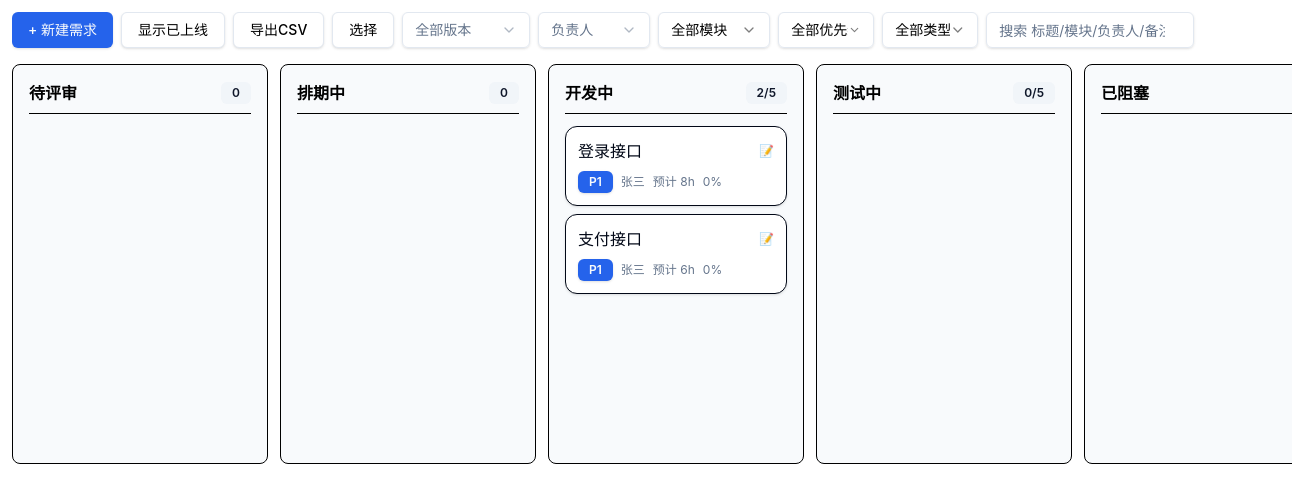
Scenario: Board › 按标题搜索过滤卡片
Check: the text "登录接口" is shown, box [578,139,642,163]
Step 1. Type "支付" into the field with placeholder "搜索 标题/模块/负责人/备注" → (1090, 30), box [986,12,1194,48]
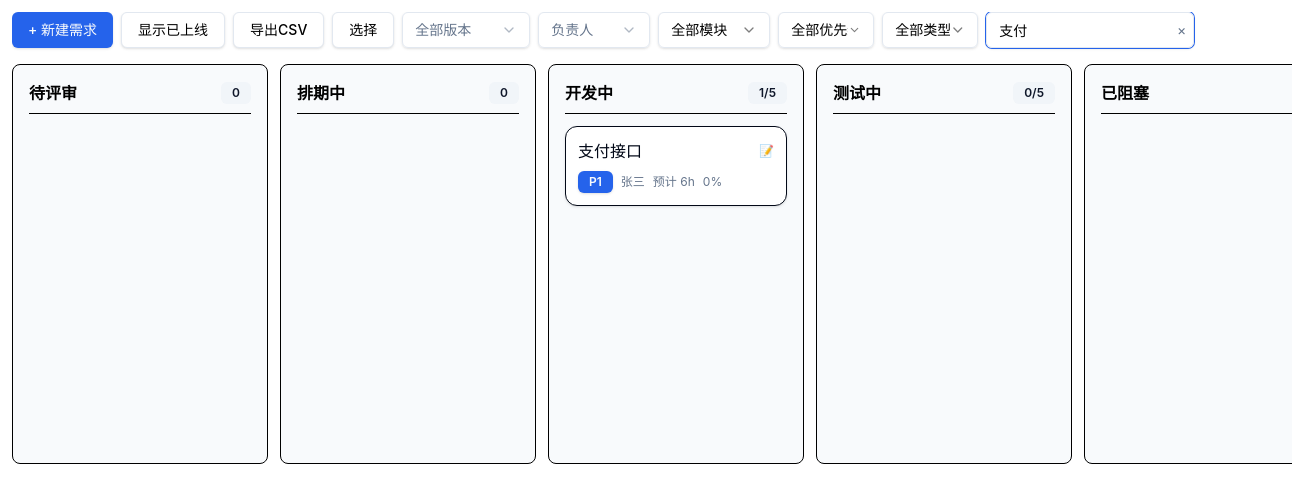
Check: the text "支付接口" is shown, box [578,139,642,163]
Check: the text "登录接口" is gone
